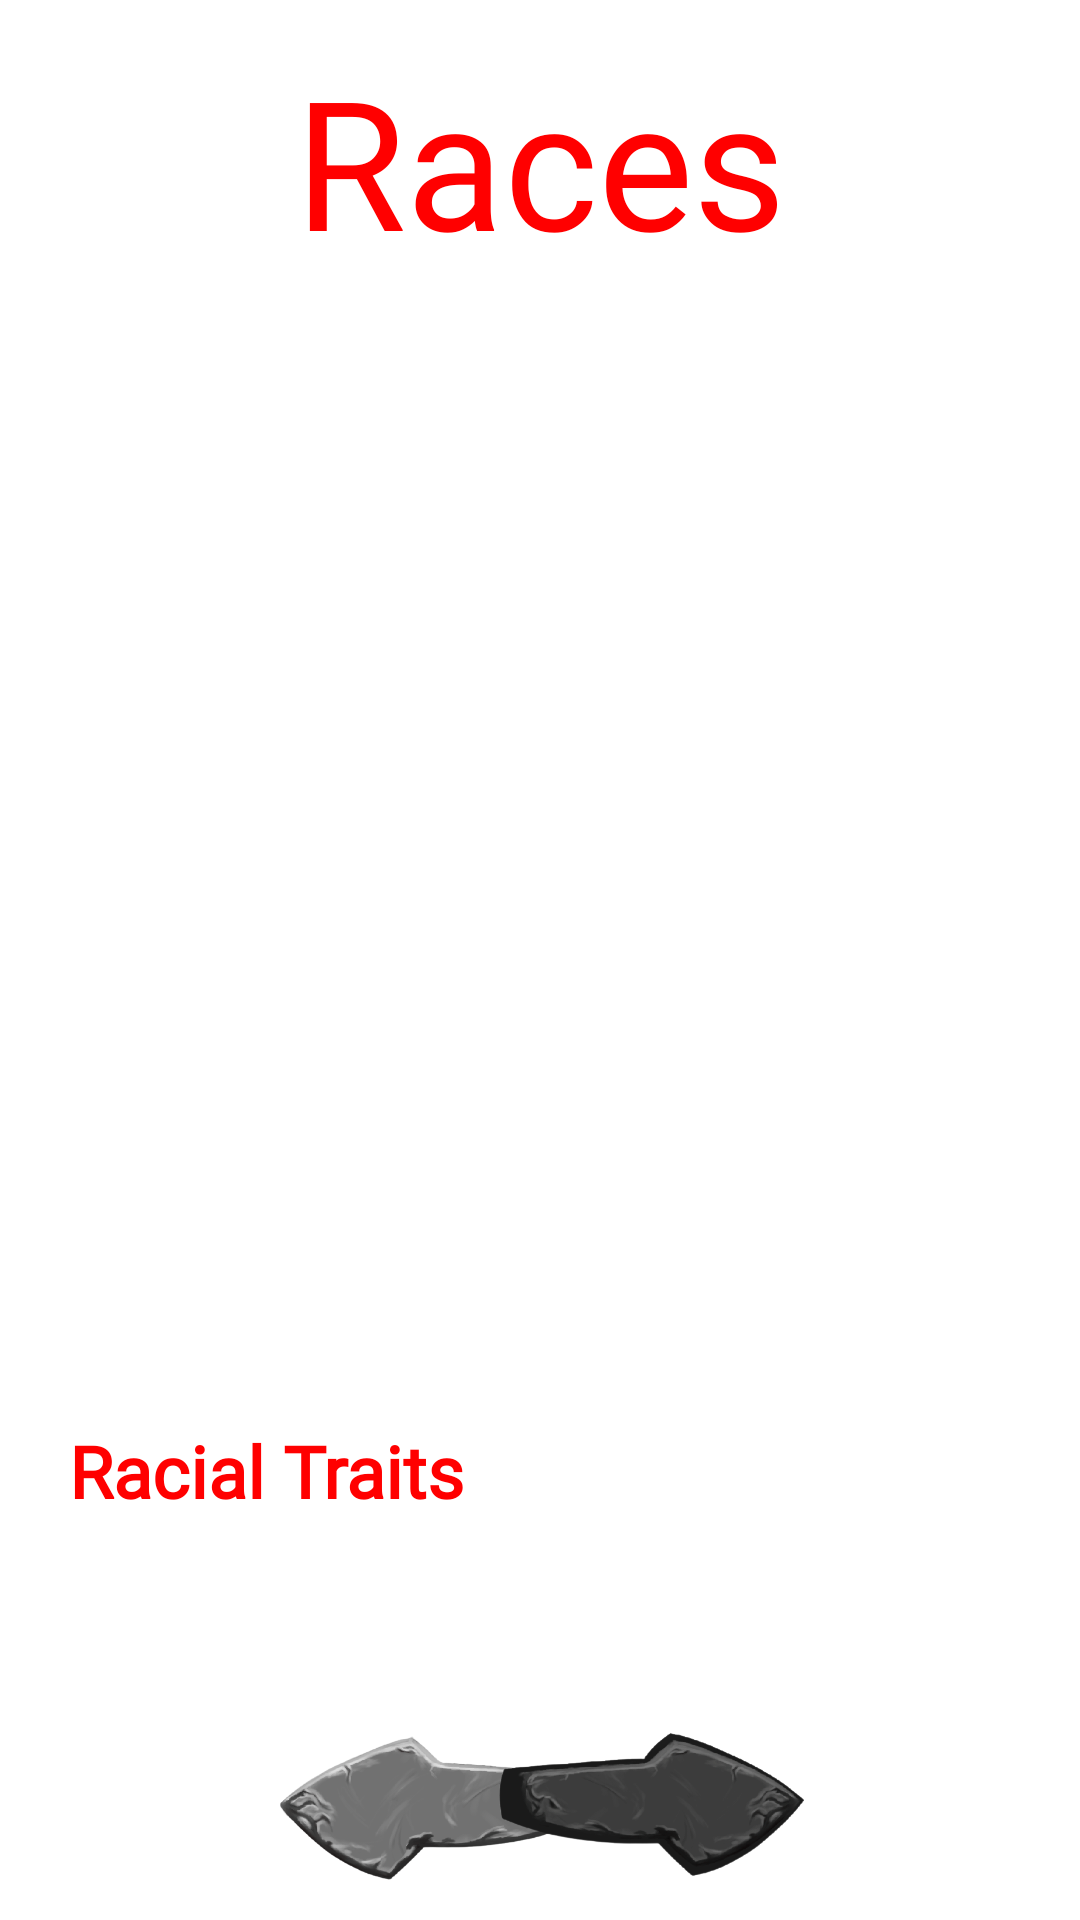

Locate icon controls on the screen. Image size 1080px×1920px, boxes as {"left": x1, "top": y1, "right": x2, "bottom": y2}.
arrow right: {"left": 498, "top": 1733, "right": 804, "bottom": 1876}
